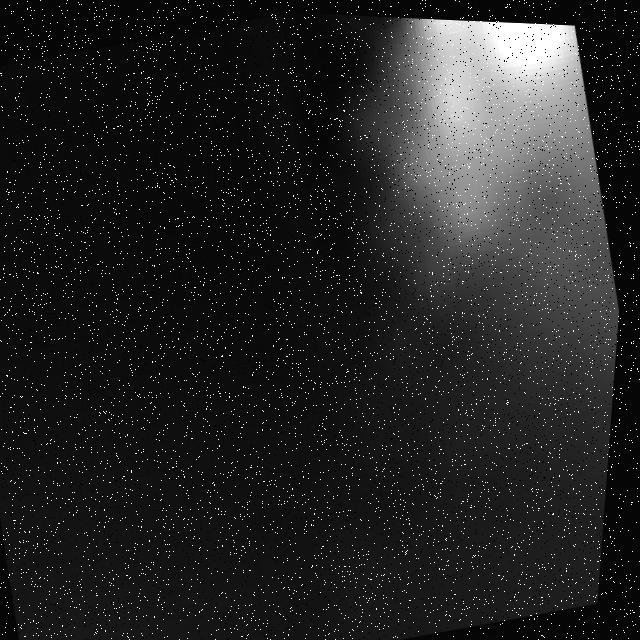person: (320, 13, 640, 460)
